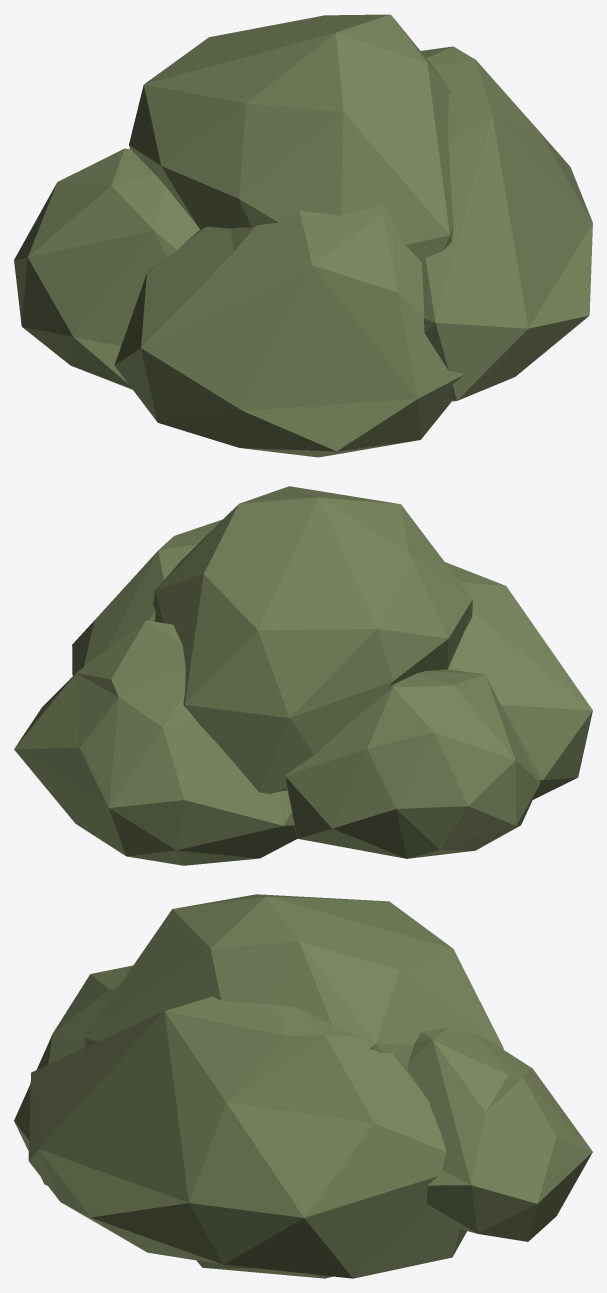
File: bush_sm.fbx
The picture shows the model from 3 angles, top to bottom: view 1: azimuth 30°, elevation 25°; view 2: azimuth 150°, elevation 25°; view 3: azimuth 270°, elevation 25°; orthographic projection. The views are drawn at different scales.
Visible parts, largest first — view 1: bush_sm; view 2: bush_sm; view 3: bush_sm.
Boxes of the visible parts, bbox=[...] form: bush_sm: bbox=[14, 14, 592, 457]; bush_sm: bbox=[14, 486, 592, 865]; bush_sm: bbox=[14, 894, 592, 1278].
Size of the model in its own units: 0.9796 by 0.6308 by 0.9832.
